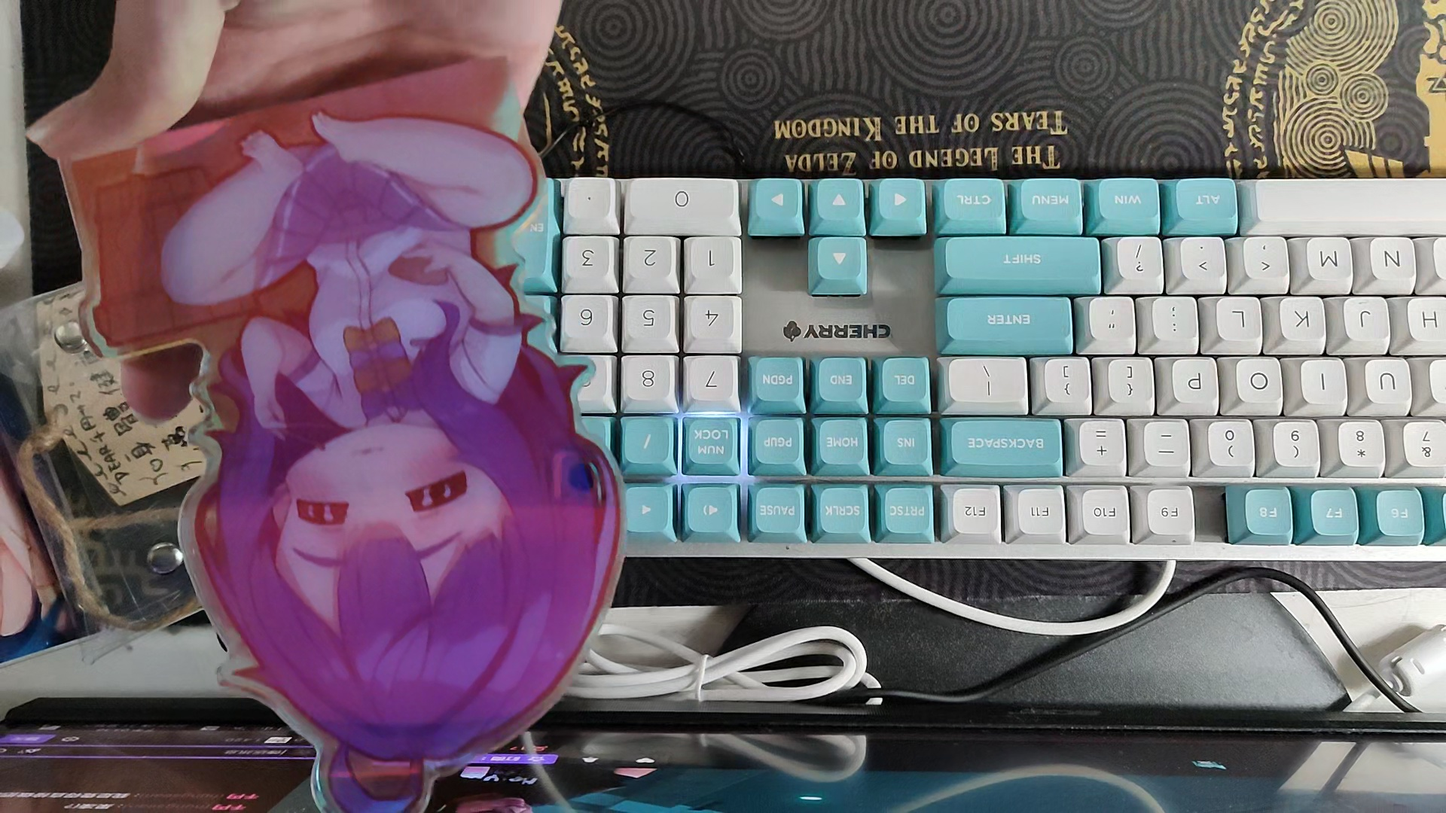Yanami-anna: (53, 54, 626, 813)
